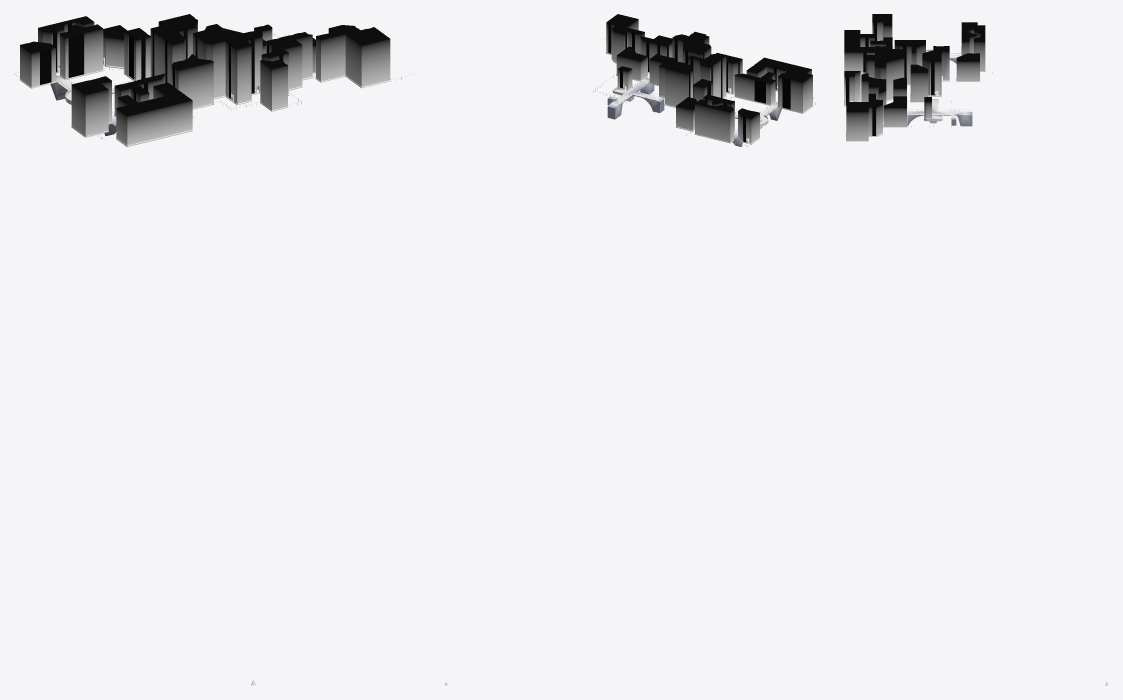
Rendered from AZMORITH.glb.
The picture shows the model from 3 angles, left to right: view 1: azimuth 30°, elevation 25°; view 2: azimuth 150°, elevation 25°; view 3: azimuth 270°, elevation 25°; orthographic projection. The views are drawn at different scales.
Visible parts, largest first — view 1: AZMORITH; view 2: AZMORITH; view 3: AZMORITH.
Boxes of the visible parts, x1,y1,x2,y2 form: AZMORITH: [14, 14, 415, 685]; AZMORITH: [445, 14, 815, 685]; AZMORITH: [844, 14, 1108, 685].
Bounding box in the file's own units: 129 × 295 × 125.
